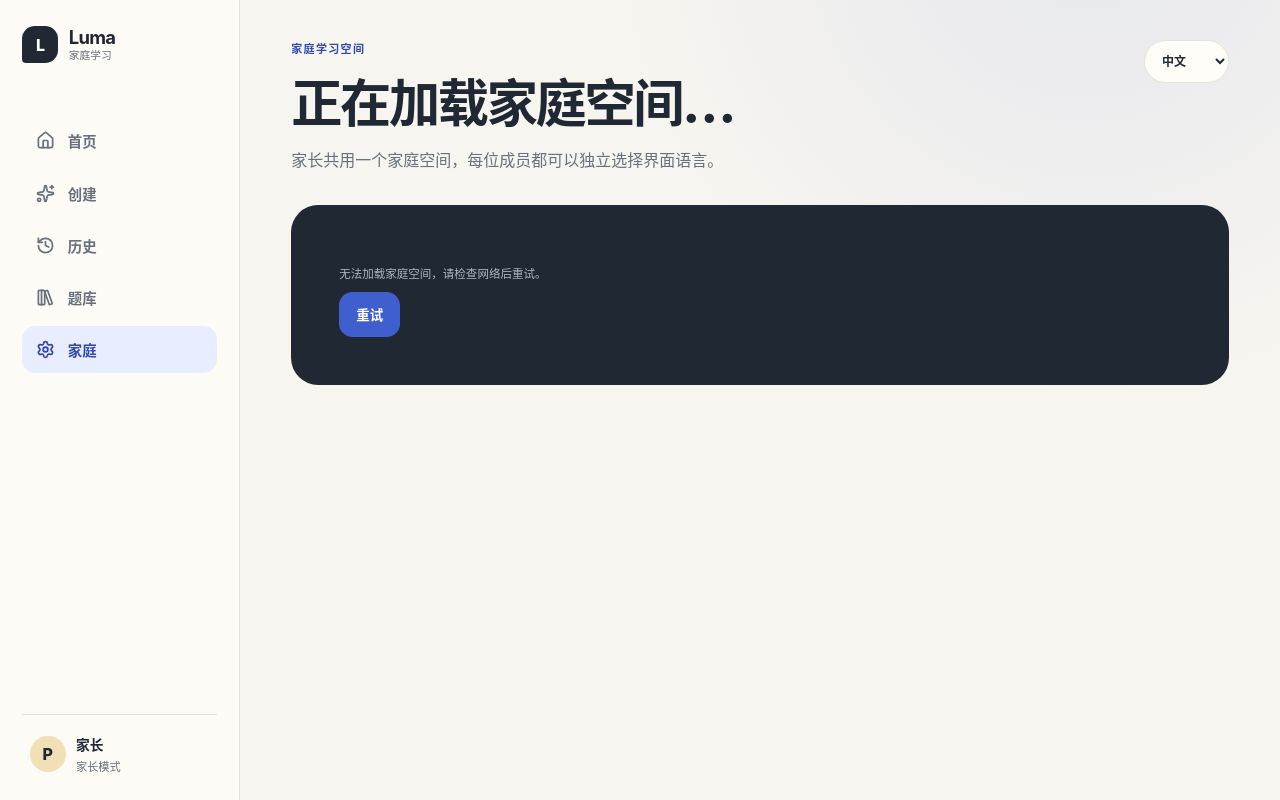
Test: FamilySettingsPage › lets a parent retry a temporary family workspace loading failure
Expected: the text "无法加载家庭空间，请检查网络后重试。" is shown, [339,267,546,281]
Step 1. Click the button "重试" → {"x": 370, "y": 314}, box [339,292,400,337]
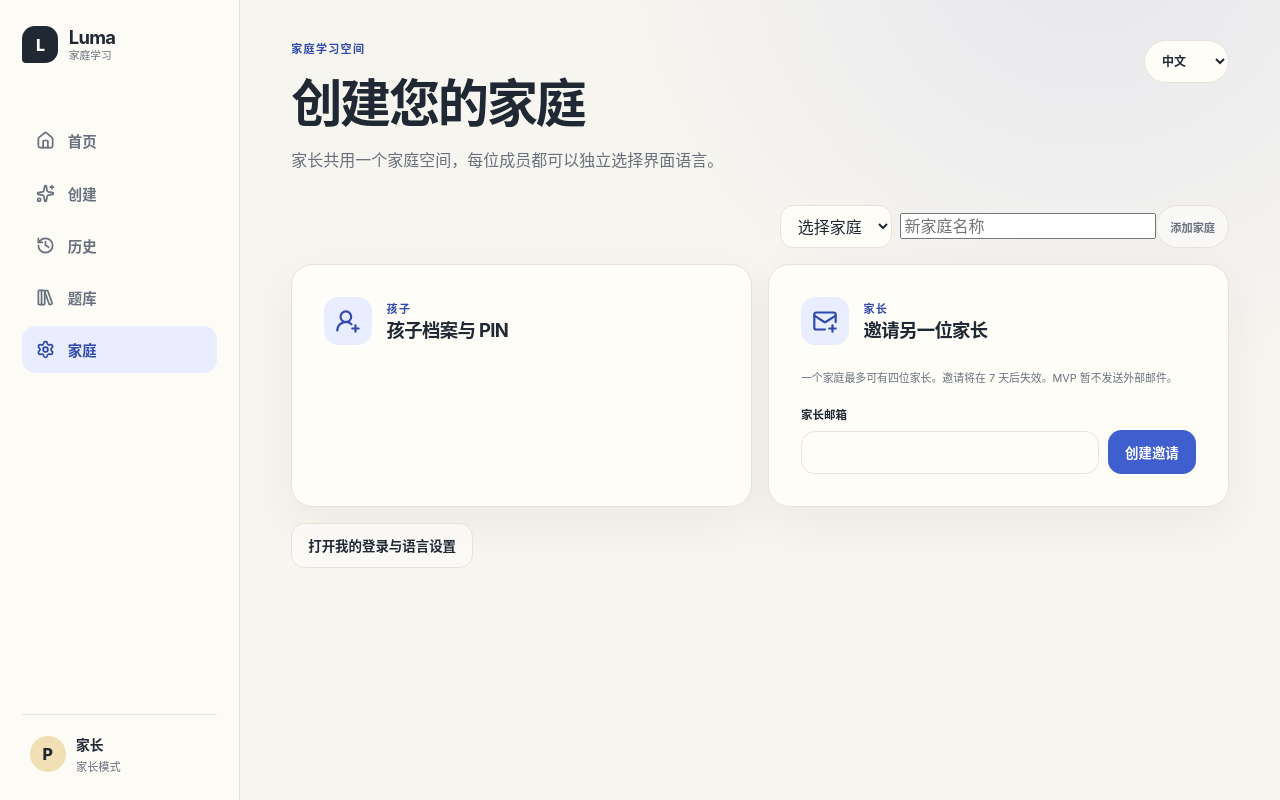
Expected: the heading "创建您的家庭" is shown, [291,72,584,134]
